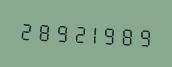eight: (34, 17, 50, 45), (119, 21, 135, 49)
nine: (51, 18, 67, 46), (102, 20, 118, 48), (136, 22, 152, 50)
one: (85, 19, 101, 47)
two: (17, 16, 33, 44), (68, 19, 84, 46)
